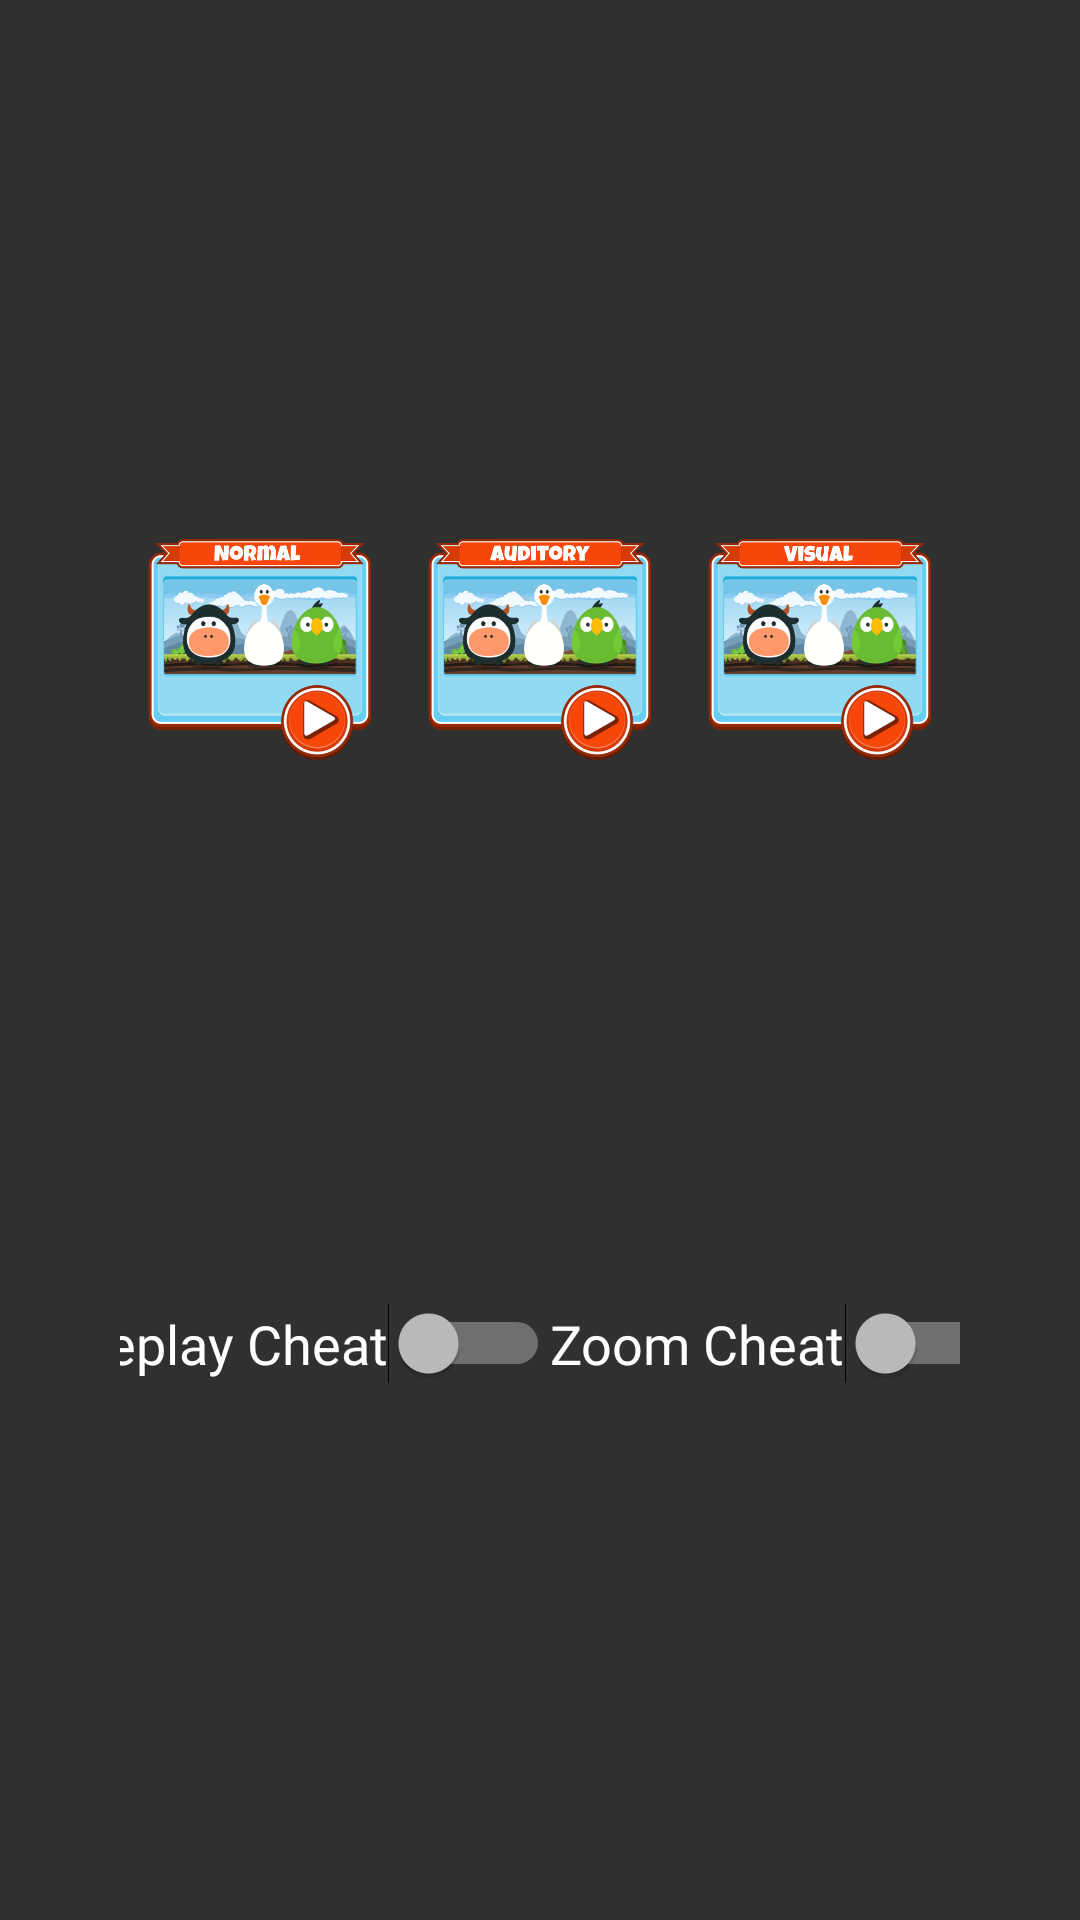

Icons on this 1080 x 1920 Android screen, each with the point to tap as (x,y):
theme animal: (259,649)
theme animal auditory: (539,649)
theme animal visual: (819,649)
